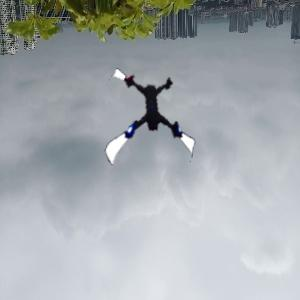drone: (103, 70, 206, 173)
